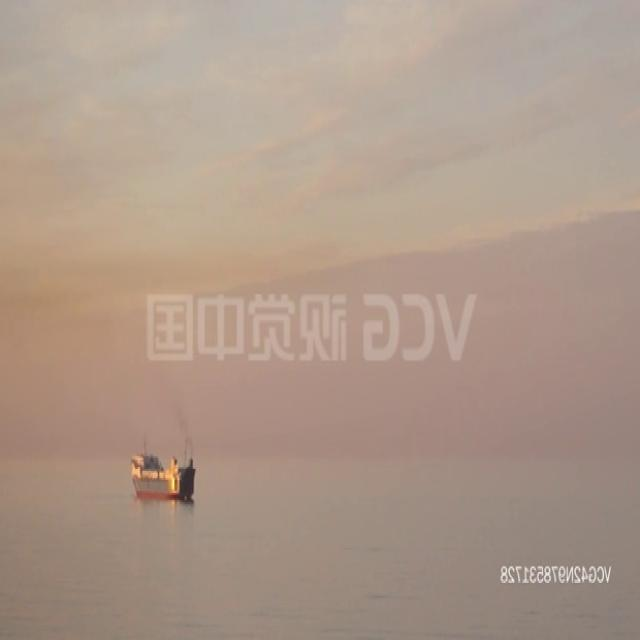cargoship: (129, 438, 198, 501)
